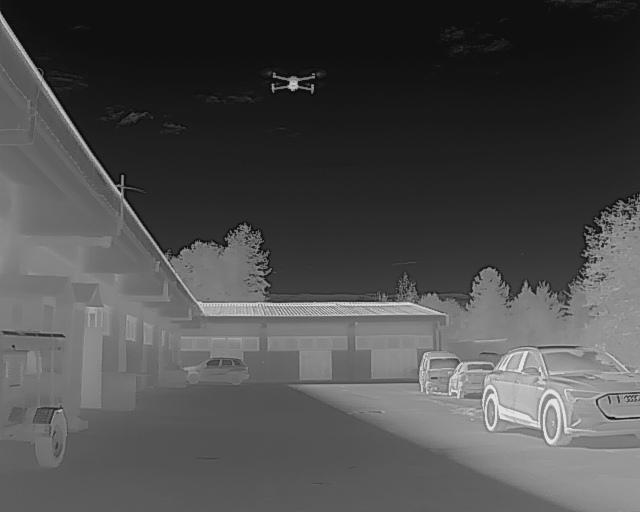drone: (256, 60, 328, 99)
